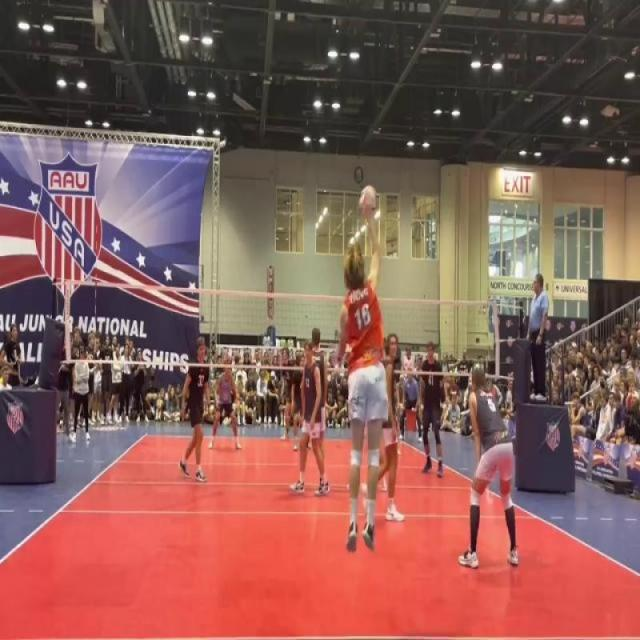volleyball: (357, 183, 378, 221)
